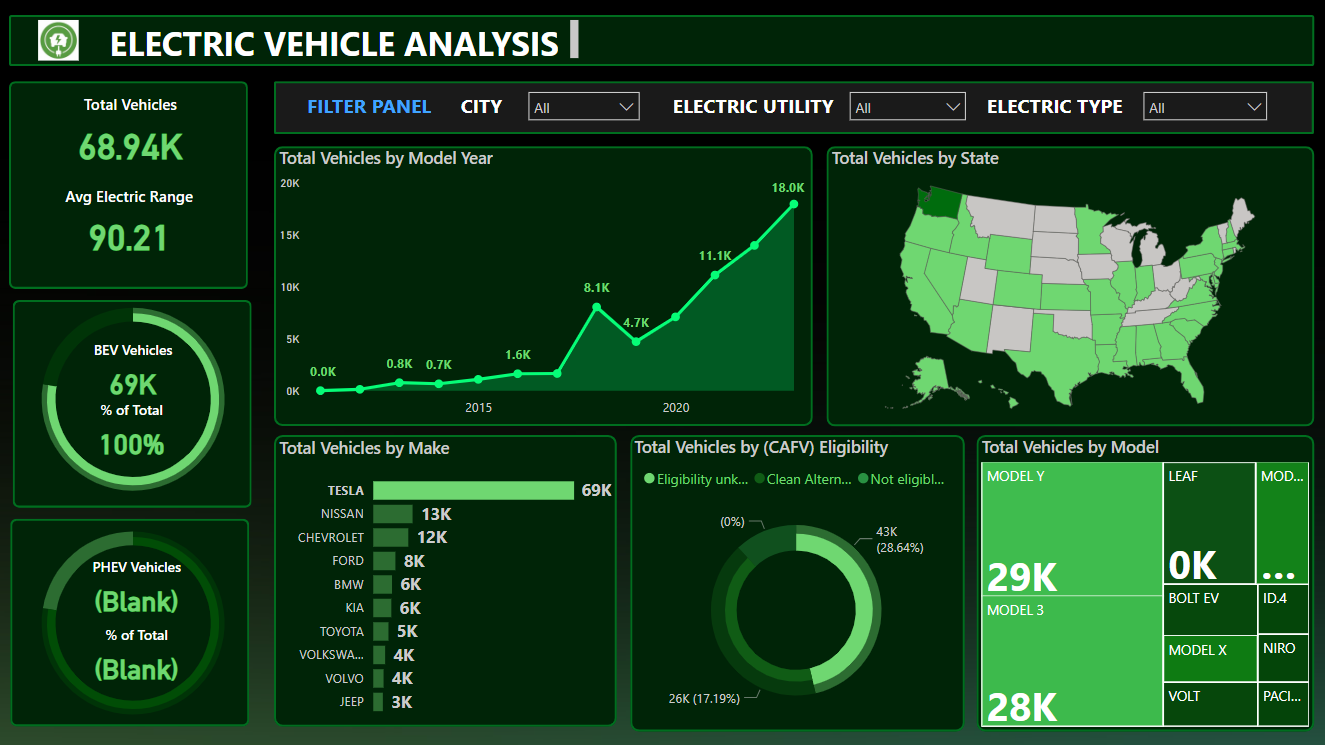

What the dashboard file says about the page in this screenshot:
{"tool":"powerbi","page":{"name":"Page 1","canvas":[1280,720],"ordinal":0},"visuals":[{"type":"shape","box":[9.5,14.3,1259.8,49.3],"z":0},{"type":"textbox","box":[90.5,14.5,474.1,49.5],"z":1000},{"type":"shape","box":[9.5,77.9,230.6,200.4],"z":2000},{"type":"card","title":"Total Vehicles","fields":{"Values":["Electric_Vehicle_Population_Data.Total Vehicles"]},"box":[36.6,90.7,181.3,76.3],"z":3000},{"type":"card","title":"Avg Electric Range","fields":{"Values":["Avg(Electric_Vehicle_Population_Data.Electric Range)"]},"box":[35,178.1,181.3,76.3],"z":4000},{"type":"shape","box":[11.1,501,230.6,200.4],"z":5000},{"type":"shape","box":[12.7,289.5,230.6,200.4],"z":6000},{"type":"donutChart","fields":{"Y":["Electric_Vehicle_Population_Data.Total Vehicles"],"Category":["Electric_Vehicle_Population_Data.Electric Vehicle Type"]},"box":[0,270.4,259.3,230.6],"z":7000},{"type":"card","title":"BEV Vehicles","fields":{"Values":["Electric_Vehicle_Population_Data.BEV Vehicles"]},"box":[41.4,327.7,176.6,65.2],"z":8000},{"type":"card","title":"% of Total","fields":{"Values":["Electric_Vehicle_Population_Data.% of BEV"]},"box":[39.8,386.5,176.6,65.2],"z":9000},{"type":"donutChart","fields":{"Y":["Electric_Vehicle_Population_Data.Total Vehicles"],"Category":["Electric_Vehicle_Population_Data.Electric Vehicle Type"]},"box":[0,486.7,259.3,230.6],"z":10000},{"type":"card","title":"PHEV Vehicles","fields":{"Values":["Electric_Vehicle_Population_Data.PHEV Vehicles"]},"box":[44.5,537.6,176.6,65.2],"z":11000},{"type":"card","title":"% of Total","fields":{"Values":["Electric_Vehicle_Population_Data.% of PHEV"]},"box":[44.5,602.8,176.6,65.2],"z":12000},{"type":"shape","box":[265.6,141.6,520,270],"z":13000},{"type":"shape","box":[265.6,77.9,1003.7,50.9],"z":14000},{"type":"areaChart","fields":{"Category":["Electric_Vehicle_Population_Data.Model Year"],"Y":["Electric_Vehicle_Population_Data.Total Vehicles"]},"box":[265.4,141.2,520,270.2],"z":15000},{"type":"shape","box":[798.5,141.6,470.8,270.4],"z":16000},{"type":"shape","box":[265.6,419.9,330.8,281.5],"z":17000},{"type":"shape","box":[609.2,419.9,322.9,286.3],"z":18000},{"type":"shape","box":[943.2,419.9,326.1,286.3],"z":19000},{"type":"barChart","fields":{"Category":["Electric_Vehicle_Population_Data.Make"],"Y":["Electric_Vehicle_Population_Data.Total Vehicles"]},"box":[265.6,421.5,330.8,279.9],"z":20000},{"type":"donutChart","title":"Total Vehicles by (CAFV) Eligibility","fields":{"Category":["Electric_Vehicle_Population_Data.Clean Alternative Fuel Vehicle (CAFV) Eligibility"],"Y":["Electric_Vehicle_Population_Data.Total Vehicles"]},"box":[608.5,419.5,323.2,287.2],"z":21000},{"type":"treemap","fields":{"Group":["Electric_Vehicle_Population_Data.Model"],"Values":["Electric_Vehicle_Population_Data.Total Vehicles"]},"box":[943.2,419.9,326.1,286.3],"z":22000},{"type":"textbox","box":[283.1,84.3,147.9,38.2],"z":23000},{"type":"slicer","fields":{"Values":["Electric_Vehicle_Population_Data.City"]},"box":[501,77.9,127.2,50.9],"z":24000},{"type":"textbox","box":[431.1,84.3,70,38.2],"z":25000},{"type":"slicer","fields":{"Values":["Electric_Vehicle_Population_Data.Electric Utility"]},"box":[810.7,78.4,132.7,50.7],"z":26000},{"type":"textbox","box":[627.3,84.5,183.4,38.6],"z":27000},{"type":"slicer","fields":{"Values":["Electric_Vehicle_Population_Data.Electric Vehicle Type"]},"box":[1094.3,77.9,140,50.9],"z":28000},{"type":"textbox","box":[943.2,84.3,151.1,38.2],"z":29000},{"type":"image","box":[23.9,14.3,66.8,49.3],"z":30000},{"type":"shapeMap","fields":{"Category":["Electric_Vehicle_Population_Data.State"],"Value":["Electric_Vehicle_Population_Data.Total Vehicles"]},"box":[798.7,141.2,470.5,270.2],"z":30001}]}

Visuals, with their boxes in screenshot pixels (x1, y1, x2, y2), scaled from the page's 1280x720 canvas onto the 1325x745 screenshot:
shape: l=10, t=15, r=1314, b=66
textbox: l=94, t=15, r=584, b=66
shape: l=10, t=81, r=249, b=288
"Total Vehicles" card: l=38, t=94, r=226, b=173
"Avg Electric Range" card: l=36, t=184, r=224, b=263
shape: l=11, t=518, r=250, b=726
shape: l=13, t=300, r=252, b=507
donutChart - Electric_Vehicle_Population_Data.Total Vehicles x Electric_Vehicle_Population_Data.Electric Vehicle Type: l=0, t=280, r=268, b=518
"BEV Vehicles" card: l=43, t=339, r=226, b=407
"% of Total" card: l=41, t=400, r=224, b=467
donutChart - Electric_Vehicle_Population_Data.Total Vehicles x Electric_Vehicle_Population_Data.Electric Vehicle Type: l=0, t=504, r=268, b=742
"PHEV Vehicles" card: l=46, t=556, r=229, b=624
"% of Total" card: l=46, t=624, r=229, b=691
shape: l=275, t=147, r=813, b=426
shape: l=275, t=81, r=1314, b=133
areaChart - Electric_Vehicle_Population_Data.Model Year x Electric_Vehicle_Population_Data.Total Vehicles: l=275, t=146, r=813, b=426
shape: l=827, t=147, r=1314, b=426
shape: l=275, t=434, r=617, b=726
shape: l=631, t=434, r=965, b=731
shape: l=976, t=434, r=1314, b=731
barChart - Electric_Vehicle_Population_Data.Make x Electric_Vehicle_Population_Data.Total Vehicles: l=275, t=436, r=617, b=726
"Total Vehicles by (CAFV) Eligibility" donutChart: l=630, t=434, r=964, b=731
treemap - Electric_Vehicle_Population_Data.Model x Electric_Vehicle_Population_Data.Total Vehicles: l=976, t=434, r=1314, b=731
textbox: l=293, t=87, r=446, b=127
slicer - Electric_Vehicle_Population_Data.City: l=519, t=81, r=650, b=133
textbox: l=446, t=87, r=519, b=127
slicer - Electric_Vehicle_Population_Data.Electric Utility: l=839, t=81, r=977, b=134
textbox: l=649, t=87, r=839, b=127
slicer - Electric_Vehicle_Population_Data.Electric Vehicle Type: l=1133, t=81, r=1278, b=133
textbox: l=976, t=87, r=1133, b=127
image: l=25, t=15, r=94, b=66
shapeMap - Electric_Vehicle_Population_Data.State x Electric_Vehicle_Population_Data.Total Vehicles: l=827, t=146, r=1314, b=426
